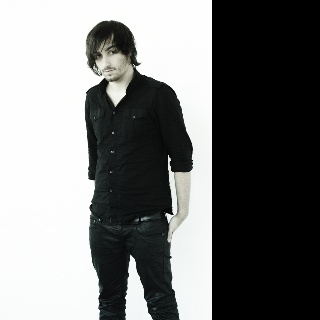without_mask: (94, 37, 129, 81)
